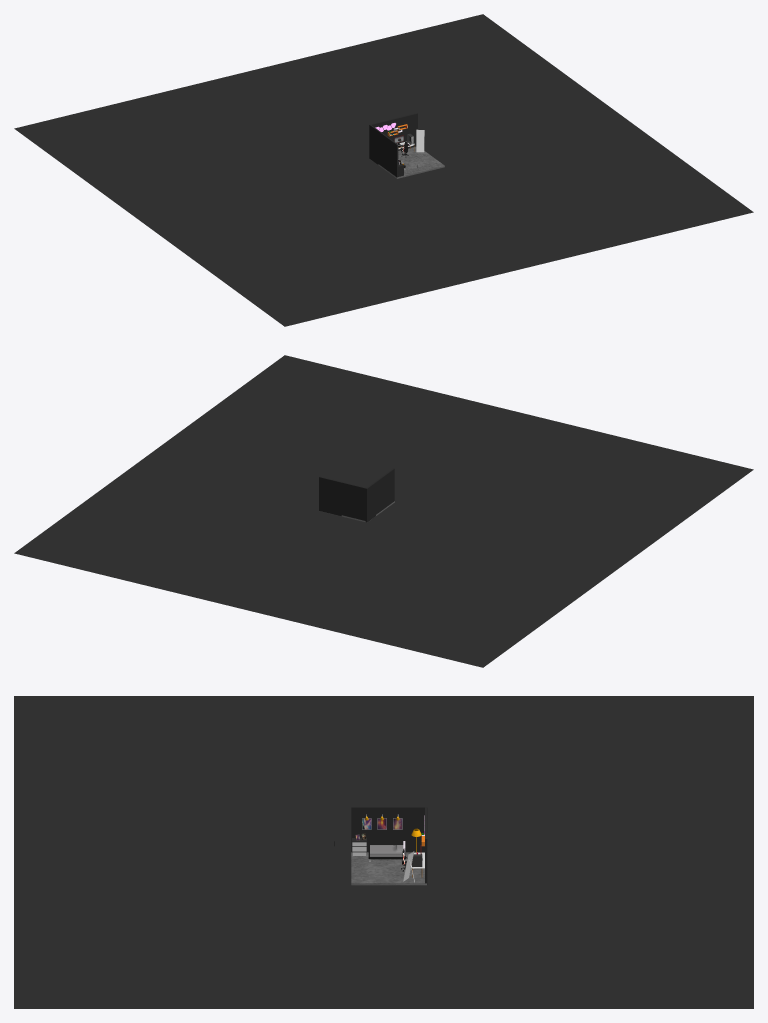
File: room.glb
The picture shows the model from 3 angles, top to bottom: view 1: azimuth 30°, elevation 25°; view 2: azimuth 150°, elevation 25°; view 3: azimuth 270°, elevation 25°; orthographic projection. The views are drawn at different scales.
Parts seen in each view (by area): view 1: Plane.001_81, Cube.001_117, Cube_116, Cube.003_118; view 2: Plane.001_81, Cube.003_118, Cube.001_117; view 3: Plane.001_81, Cube.001_117, Cube_116.
Boxes of the visible parts, bbox=[...] form: Plane.001_81: bbox=[14, 14, 753, 326]; Cube.001_117: bbox=[369, 125, 398, 177]; Cube_116: bbox=[370, 146, 444, 178]; Cube.003_118: bbox=[369, 113, 417, 150]; Plane.001_81: bbox=[14, 355, 753, 667]; Cube.003_118: bbox=[319, 476, 367, 520]; Cube.001_117: bbox=[365, 468, 394, 522]; Plane.001_81: bbox=[14, 696, 753, 1008]; Cube.001_117: bbox=[351, 807, 427, 852]; Cube_116: bbox=[351, 852, 426, 885].
Size of the model in its own units: 37.45 by 3.12 by 37.45.
54 materials, 12 textured.
